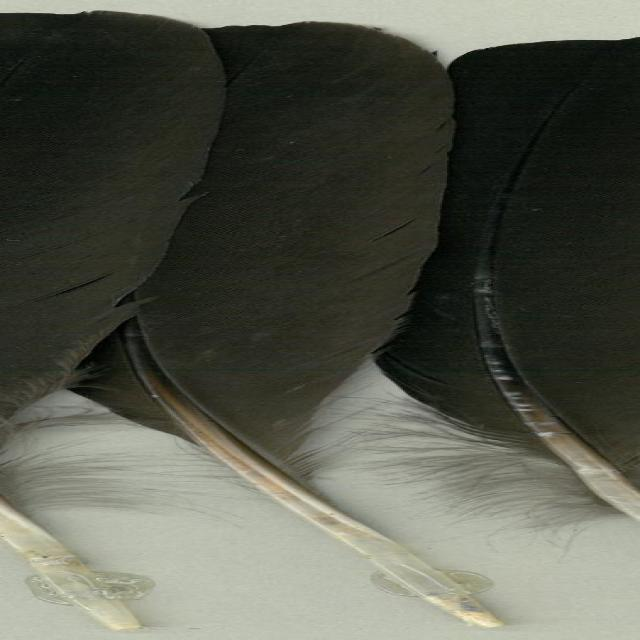feather: (68, 21, 502, 632), (372, 34, 640, 529)
